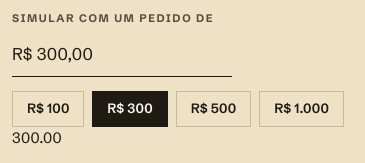
Test: SimulationBar › um atalho troca o valor
The image size is (365, 163).
What coordinates should you click on to do the following:
click the button "R$ 1.000"
I would click on:
 (302, 108)
Its box is [259, 90, 344, 126].
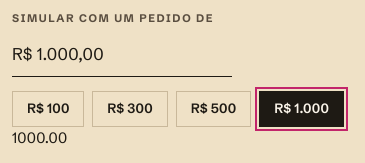
Expected: the text "1000.00" is shown, [12, 128, 67, 146]
